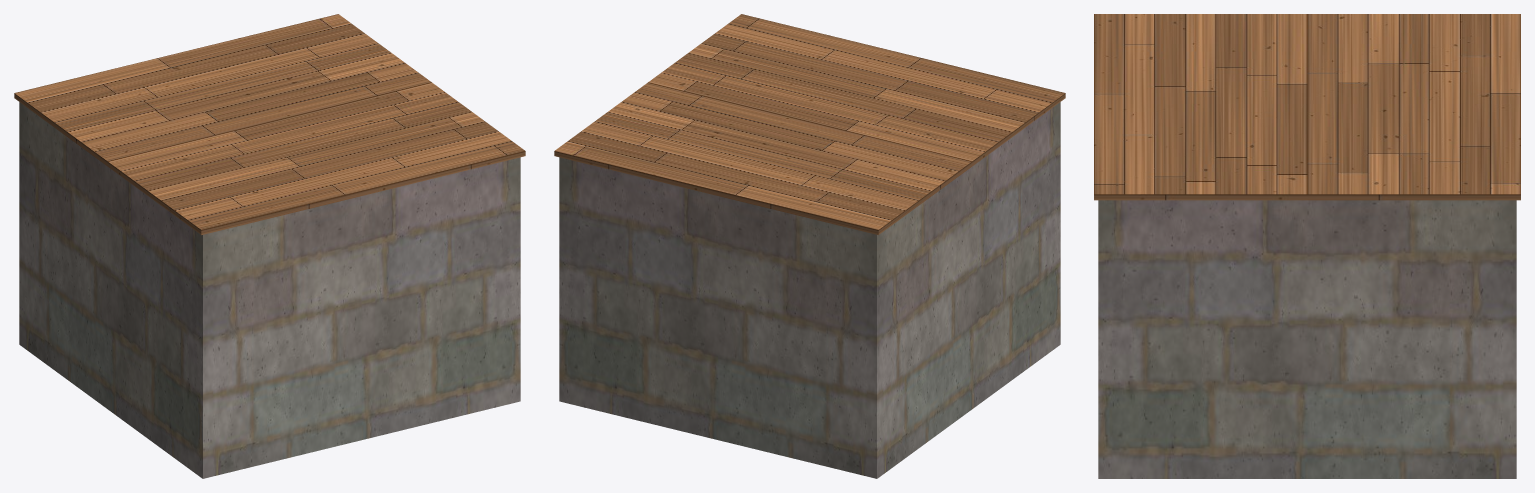
The model's file is floor_wood_g.glb.
3 renders of one model, left to right at view 1: azimuth 30°, elevation 25°; view 2: azimuth 150°, elevation 25°; view 3: azimuth 270°, elevation 25°, orthographic. The views are drawn at different scales.
Visible parts, largest first — view 1: floor_wood_g_plinth, floor_wood_g_floor; view 2: floor_wood_g_plinth, floor_wood_g_floor; view 3: floor_wood_g_plinth, floor_wood_g_floor.
Part boxes in pixels (bbox=[...]): floor_wood_g_plinth: bbox=[19, 102, 520, 478]; floor_wood_g_floor: bbox=[14, 14, 525, 234]; floor_wood_g_plinth: bbox=[559, 102, 1060, 478]; floor_wood_g_floor: bbox=[554, 14, 1065, 234]; floor_wood_g_plinth: bbox=[1098, 200, 1516, 478]; floor_wood_g_floor: bbox=[1094, 14, 1520, 200].
Size of the model in its own units: 2 by 1.48 by 2.
Materials: 2 (2 with a texture image).
